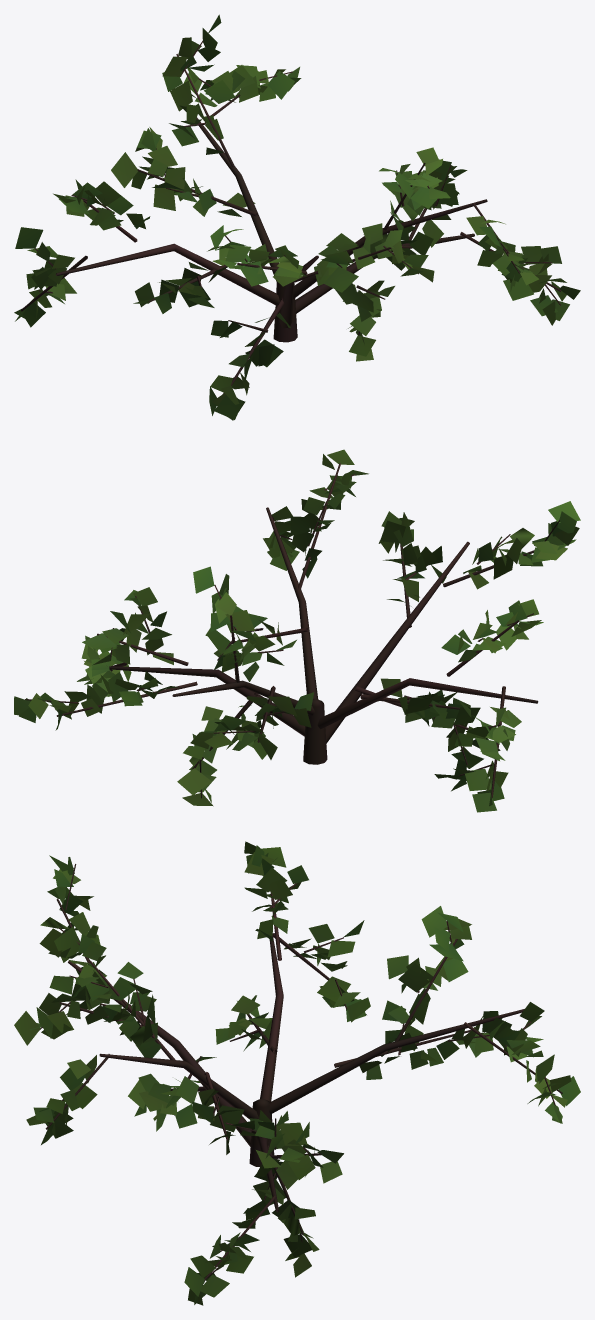
File: bush-bramble-b.lod0.glb
3 views of the same model, one above another, from view 1: azimuth 30°, elevation 25°; view 2: azimuth 150°, elevation 25°; view 3: azimuth 270°, elevation 25° (orthographic). The views are drawn at different scales.
Visible parts, largest first — view 1: bush-bramble-b.lod0; view 2: bush-bramble-b.lod0; view 3: bush-bramble-b.lod0.
Part boxes in pixels (x1=…): bush-bramble-b.lod0: x1=14, y1=14, x2=580, y2=420; bush-bramble-b.lod0: x1=14, y1=449, x2=580, y2=812; bush-bramble-b.lod0: x1=14, y1=841, x2=580, y2=1305.
Bounding box in the file's own units: 1.64 × 0.9918 × 1.58.
